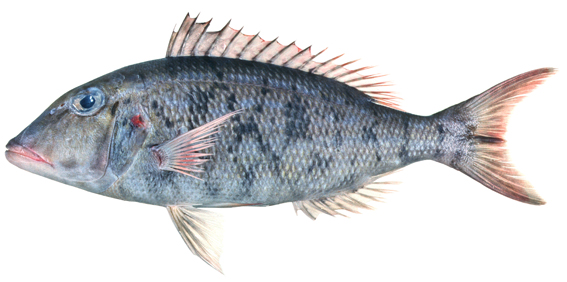fish: (5, 11, 561, 275)
